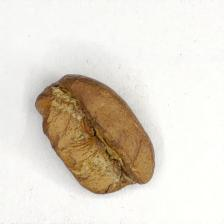NG: (50, 82, 133, 189)
